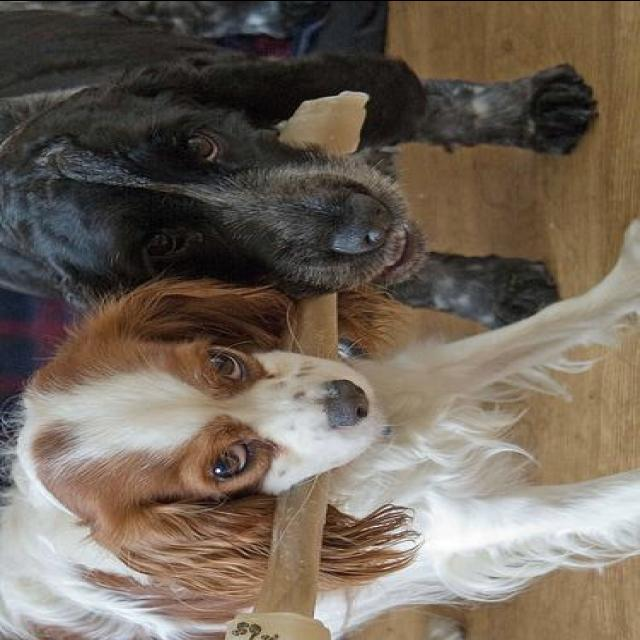blenheim_spaniel: (0, 214, 638, 640)
